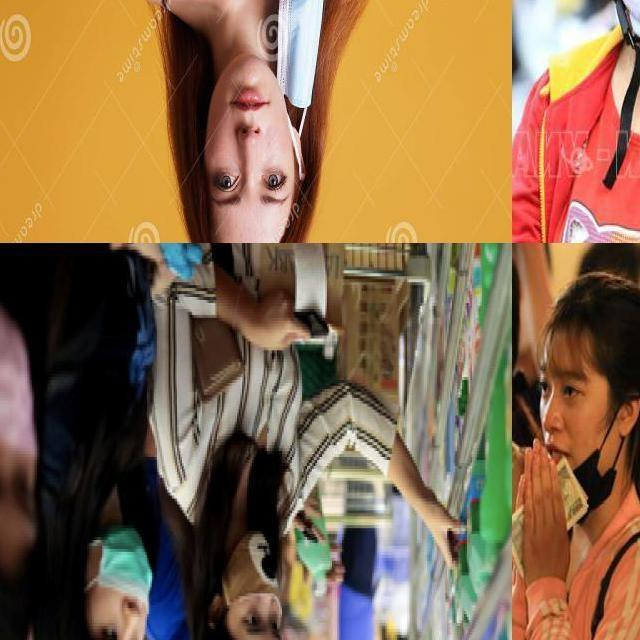hairnet: (540, 364, 603, 492), (96, 532, 151, 639)
mask: (224, 526, 295, 615)
no_apron: (519, 432, 576, 586), (232, 276, 303, 357)
